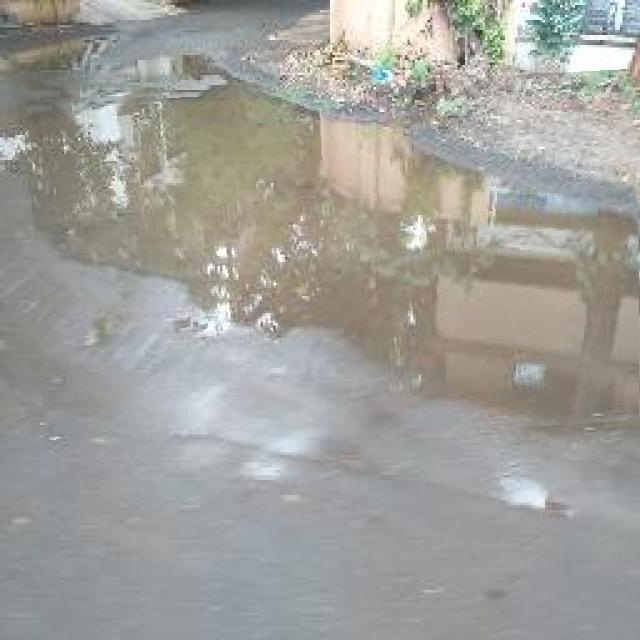puddle: (31, 78, 640, 445)
